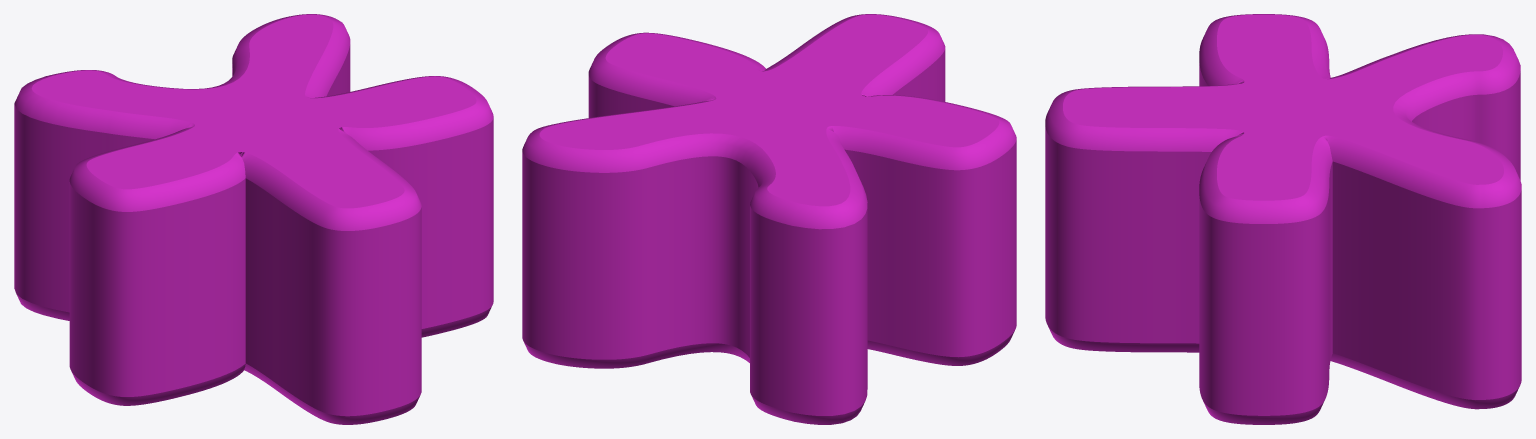
The model's file is Blocky_Asterisk.fbx.
The picture shows the model from 3 angles, left to right: view 1: azimuth 30°, elevation 25°; view 2: azimuth 150°, elevation 25°; view 3: azimuth 270°, elevation 25°; orthographic projection. The views are drawn at different scales.
Parts seen in each view (by area): view 1: BlockyAsterisk; view 2: BlockyAsterisk; view 3: BlockyAsterisk.
Part boxes in pixels (bbox=[...]): BlockyAsterisk: bbox=[14, 14, 493, 424]; BlockyAsterisk: bbox=[522, 14, 1016, 424]; BlockyAsterisk: bbox=[1045, 14, 1521, 424].
Size of the model in its own units: 0.2697 by 0.14 by 0.2703.
